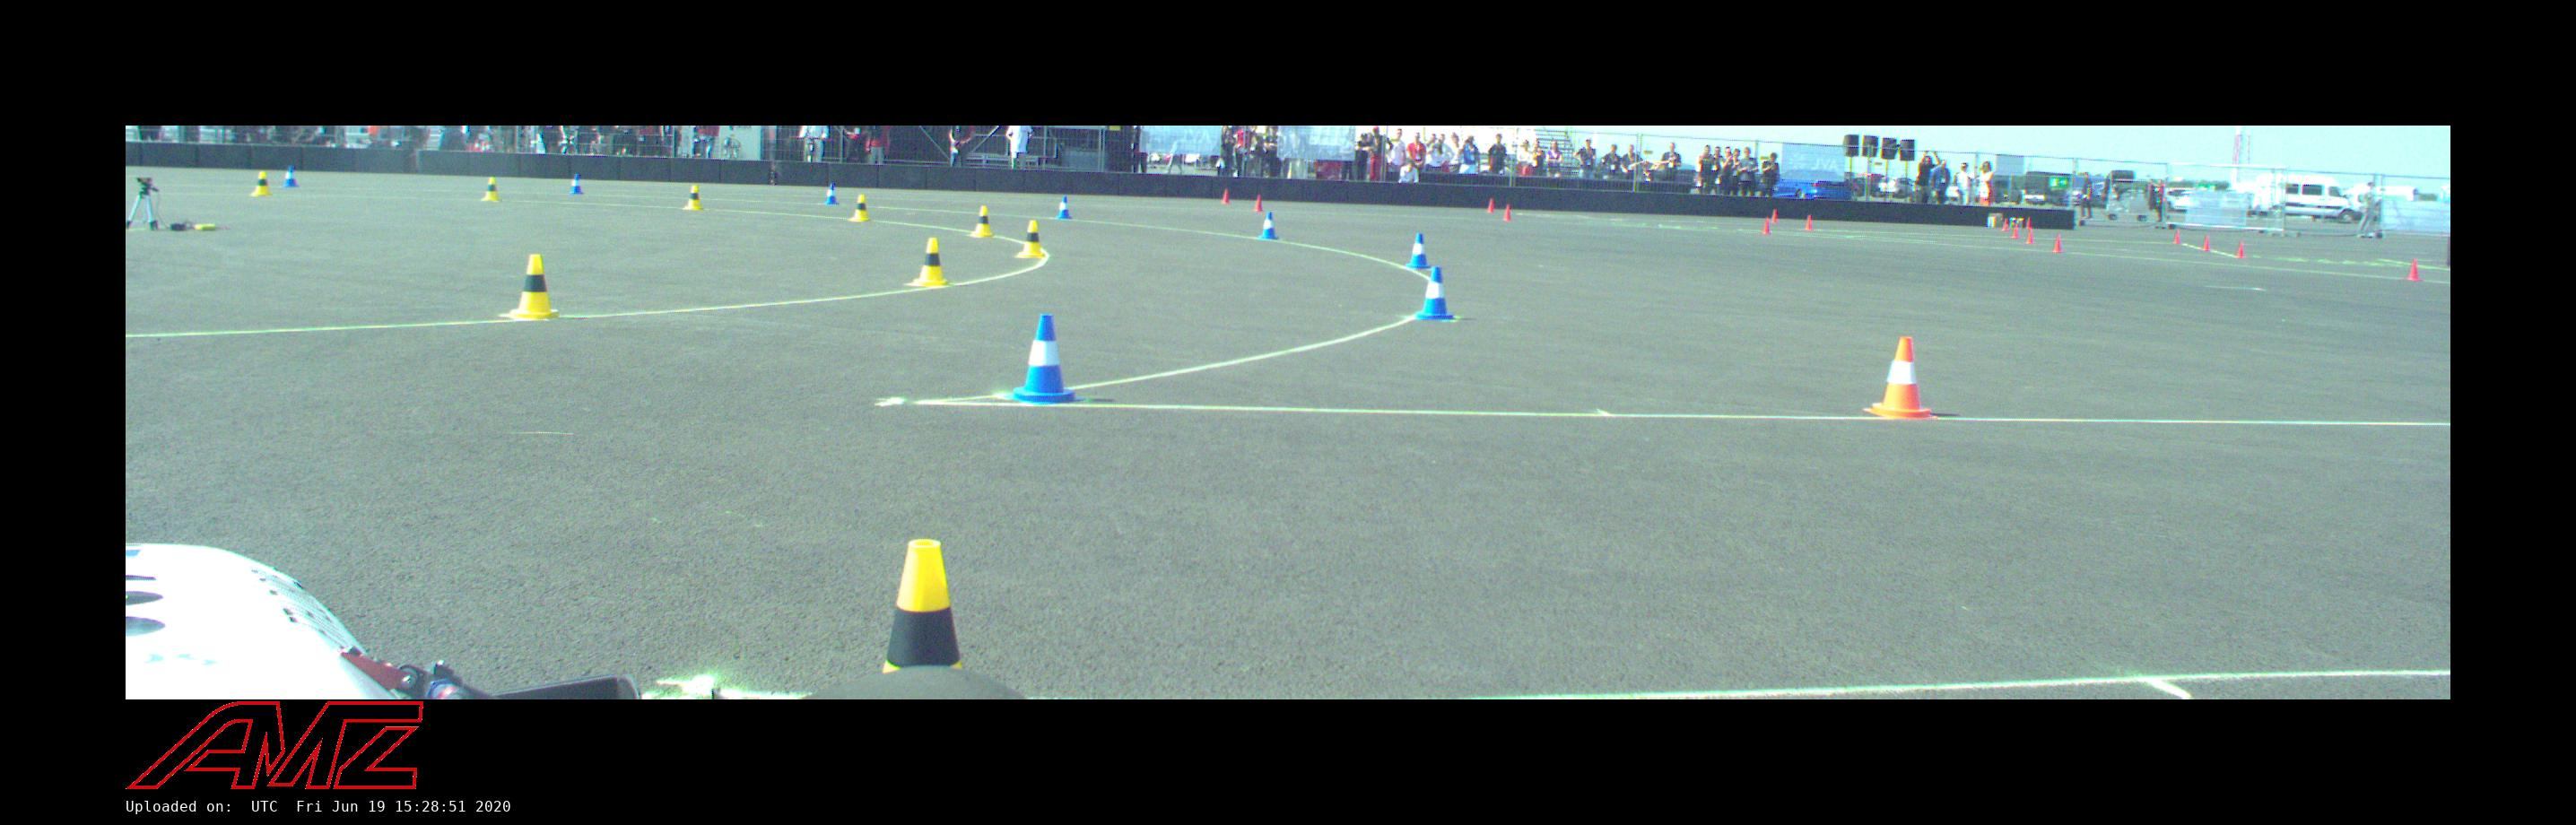blue_cone: (1007, 316, 1086, 404), (1413, 268, 1456, 320), (1406, 233, 1431, 270), (1260, 212, 1277, 240), (1056, 196, 1071, 219), (284, 166, 299, 187), (568, 174, 583, 194), (823, 182, 838, 202)
orange_cone: (1865, 337, 1935, 419)
unknown_cone: (2405, 260, 2422, 281), (2049, 237, 2062, 253), (1761, 215, 1771, 235), (1801, 215, 1812, 232), (2201, 237, 2211, 251), (1769, 209, 1779, 224), (2024, 230, 2034, 243), (2236, 242, 2244, 256), (1255, 194, 1262, 212), (1503, 204, 1510, 220), (1487, 199, 1495, 212), (2001, 219, 2009, 232), (1222, 189, 1229, 204), (2172, 232, 2180, 243), (2009, 227, 2017, 238)
yellow_cone: (853, 539, 994, 674), (506, 255, 562, 320), (904, 238, 953, 286), (1015, 220, 1045, 258), (969, 205, 994, 238), (848, 194, 867, 220), (683, 186, 703, 210), (251, 171, 271, 196), (483, 177, 501, 200)
